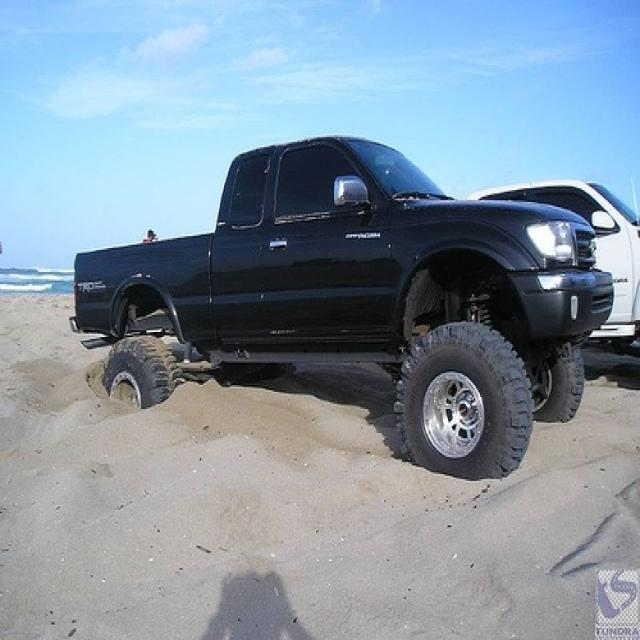car: (72, 132, 618, 481), (456, 176, 638, 361)
